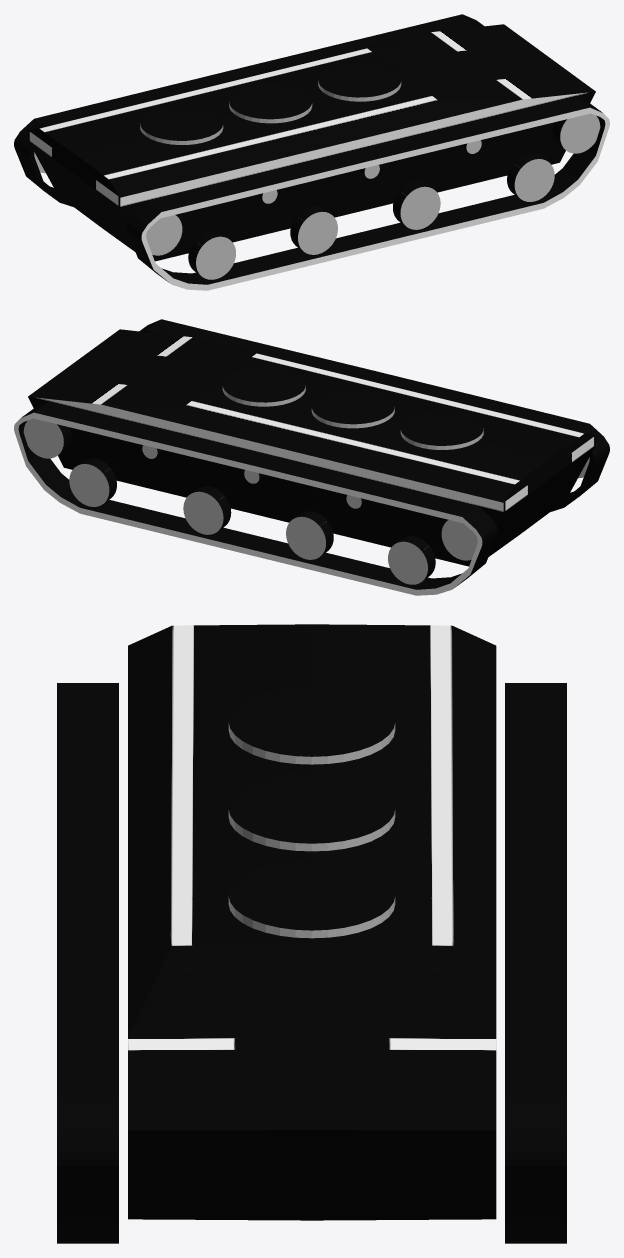
File: bmp.fbx
3 views of the same model, one above another, from view 1: azimuth 30°, elevation 25°; view 2: azimuth 150°, elevation 25°; view 3: azimuth 270°, elevation 25° (orthographic). The views are drawn at different scales.
Visible parts, largest first — view 1: Cube, TracksExtruded.001, bmpPlatform.001, bmpPlatform.002, bmpPlatform.003, CylinderBase.010, CylinderBase.011, CylinderBase.009, CylinderBase.008, CylinderBack.004, CylinderBack.005; view 2: Cube, TracksExtruded.001, bmpPlatform.001, bmpPlatform.002, bmpPlatform.003, CylinderBase.014, CylinderBase.015, CylinderBase.013, CylinderBase.012, CylinderBack.006, CylinderBack.007; view 3: Cube, TracksExtruded.001, bmpPlatform.001, bmpPlatform.003, bmpPlatform.002.
Boxes of the visible parts, x1,y1,x2,y2 form: Cube: (28,24,595,261); TracksExtruded.001: (14,14,609,290); bmpPlatform.001: (318,62,401,101); bmpPlatform.002: (229,84,312,123); bmpPlatform.003: (140,105,223,144); CylinderBase.010: (290,206,337,254); CylinderBase.011: (188,231,235,279); CylinderBase.009: (393,181,440,229); CylinderBase.008: (507,153,554,201); CylinderBack.004: (552,113,600,153); CylinderBack.005: (146,215,182,255); Cube: (28,329,595,566); TracksExtruded.001: (14,319,609,595); bmpPlatform.001: (222,367,305,406); bmpPlatform.002: (311,389,394,428); bmpPlatform.003: (400,410,483,449); CylinderBase.014: (286,511,333,559); CylinderBase.015: (388,536,435,584); CylinderBase.013: (183,486,231,534); CylinderBase.012: (69,458,116,506); CylinderBack.006: (23,418,71,458); CylinderBack.007: (441,520,477,560); Cube: (128,624,496,1220); TracksExtruded.001: (57,683,566,1243); bmpPlatform.001: (228,860,395,938); bmpPlatform.003: (228,686,395,764); bmpPlatform.002: (228,773,395,851).
Size of the model in its own units: 401 by 89.77 by 186.
14 materials, 14 textured.
